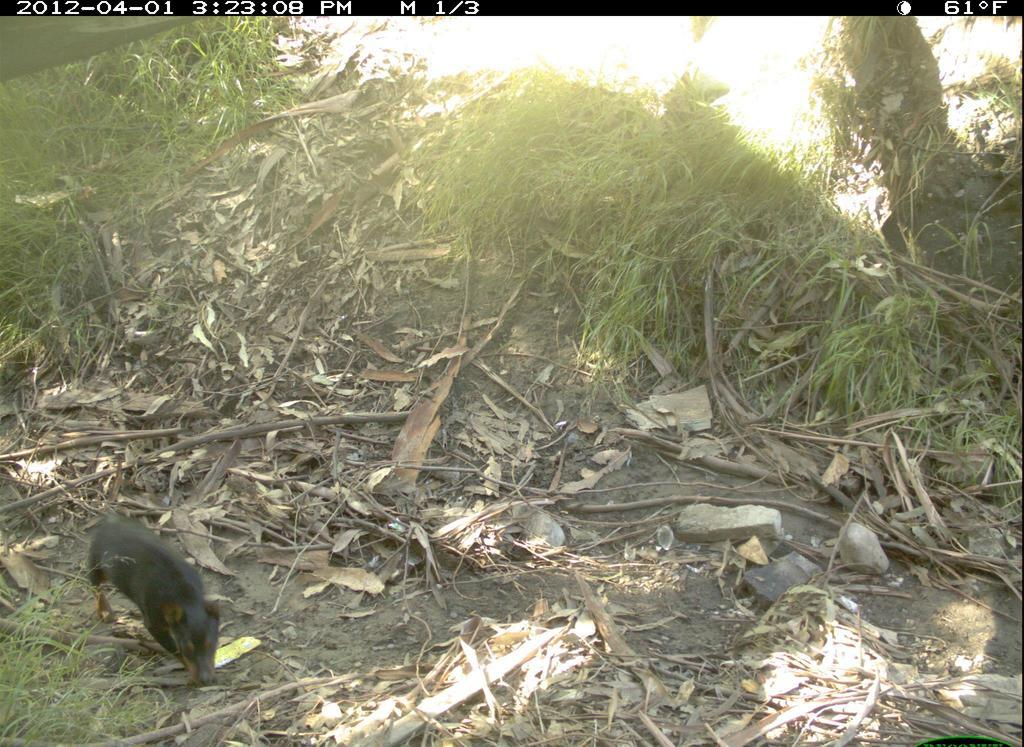dog: (65, 498, 235, 694)
